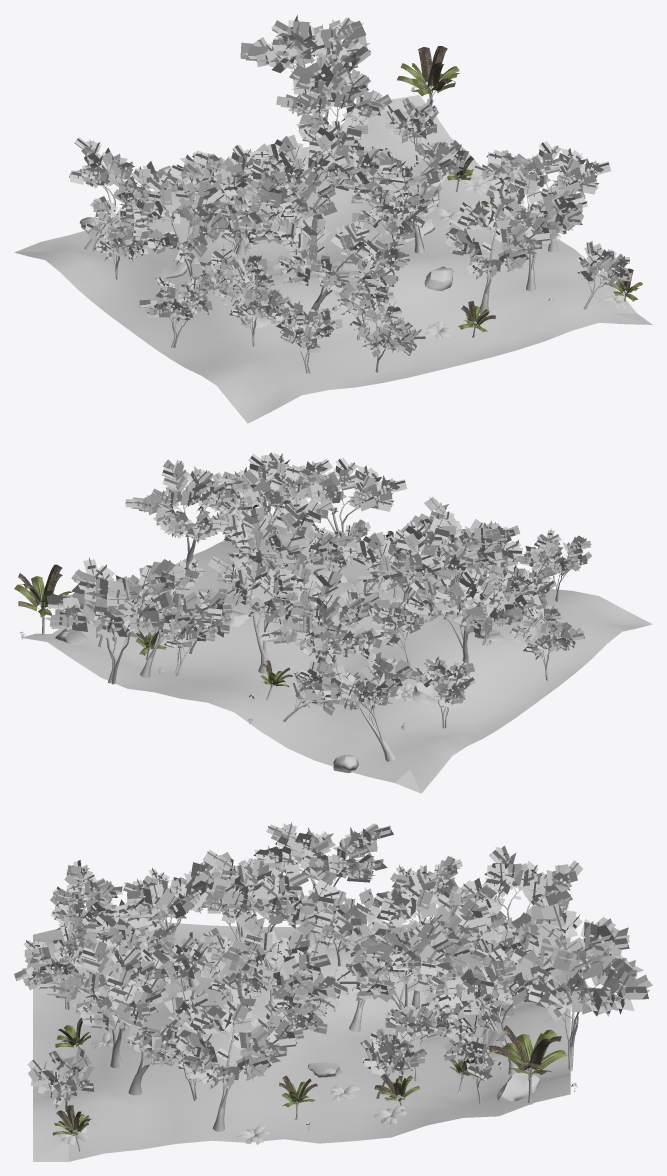
Rendered from O_004_ground_03_03.fbx.
3 views of the same model, one above another, from view 1: azimuth 30°, elevation 25°; view 2: azimuth 150°, elevation 25°; view 3: azimuth 270°, elevation 25° (orthographic). The views are drawn at different scales.
Visible parts, largest first — view 1: ground003, tree011, tree03, tree043, tree014, tree022, tree006, tree059, tree042, tree008, tree015, tree027 (+17 smaller); view 2: ground003, tree03, tree008, tree042, tree043, tree006, tree027, tree022, tree014, tree040, tree015, tree041 (+14 smaller); view 3: ground003, tree03, tree006, tree008, tree042, tree015, tree040, tree043, tree027, tree059, tree011, tree014 (+25 smaller).
Part boxes in pixels (x1=…): ground003: x1=14, y1=95, x2=652, y2=423; tree011: x1=270, y1=218, x2=398, y2=310; tree03: x1=239, y1=15, x2=370, y2=120; tree043: x1=125, y1=171, x2=226, y2=281; tree014: x1=445, y1=184, x2=556, y2=313; tree022: x1=251, y1=115, x2=391, y2=219; tree006: x1=472, y1=141, x2=610, y2=251; tree059: x1=276, y1=56, x2=392, y2=156; tree042: x1=237, y1=168, x2=337, y2=257; tree008: x1=344, y1=144, x2=458, y2=253; tree015: x1=486, y1=163, x2=587, y2=291; tree027: x1=69, y1=137, x2=183, y2=251; ground003: x1=21, y1=526, x2=652, y2=793; tree03: x1=44, y1=557, x2=185, y2=684; tree008: x1=212, y1=499, x2=347, y2=608; tree042: x1=339, y1=516, x2=478, y2=632; tree043: x1=404, y1=567, x2=541, y2=663; tree006: x1=125, y1=459, x2=240, y2=564; tree027: x1=305, y1=652, x2=412, y2=761; tree022: x1=208, y1=556, x2=325, y2=673; tree014: x1=269, y1=458, x2=407, y2=567; tree040: x1=260, y1=590, x2=374, y2=673; tree015: x1=198, y1=452, x2=332, y2=545; tree041: x1=272, y1=564, x2=391, y2=662; ground003: x1=33, y1=919, x2=570, y2=1161; tree03: x1=510, y1=892, x2=652, y2=1071; tree006: x1=176, y1=982, x2=303, y2=1131; tree008: x1=224, y1=911, x2=356, y2=1016; tree042: x1=202, y1=850, x2=339, y2=935; tree015: x1=81, y1=965, x2=222, y2=1095; tree040: x1=369, y1=865, x2=489, y2=1009; tree043: x1=253, y1=822, x2=393, y2=945; tree027: x1=437, y1=845, x2=582, y2=947; tree059: x1=415, y1=948, x2=560, y2=1074; tree011: x1=86, y1=861, x2=214, y2=987; tree014: x1=39, y1=938, x2=173, y2=1067.
Size of the model in its own units: 2191 by 790 by 2339.
